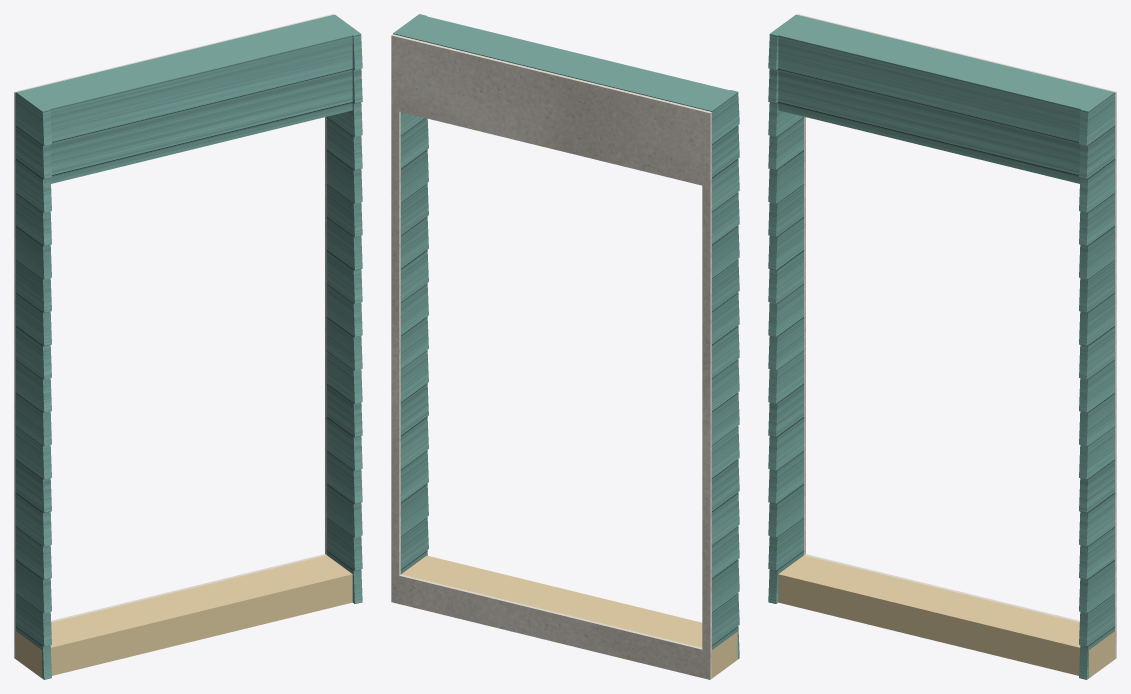
File: f_u_bay_c.glb
3 renders of one model, left to right at view 1: azimuth 30°, elevation 25°; view 2: azimuth 150°, elevation 25°; view 3: azimuth 330°, elevation 25°, orthographic.
Visible parts, largest first — view 1: f_u_bay_c_siding_c, f_u_bay_c_acc_c, f_u_bay_c_plaster; view 2: f_u_bay_c_plaster, f_u_bay_c_siding_c, f_u_bay_c_acc_c; view 3: f_u_bay_c_siding_c, f_u_bay_c_acc_c, f_u_bay_c_plaster.
Boxes of the visible parts, <box> form: f_u_bay_c_siding_c: <box>16,14,362,679</box>; f_u_bay_c_acc_c: <box>16,555,352,677</box>; f_u_bay_c_plaster: <box>14,14,333,658</box>; f_u_bay_c_plaster: <box>391,34,711,679</box>; f_u_bay_c_siding_c: <box>393,14,739,659</box>; f_u_bay_c_acc_c: <box>401,555,737,678</box>; f_u_bay_c_siding_c: <box>768,14,1114,679</box>; f_u_bay_c_acc_c: <box>778,555,1114,677</box>; f_u_bay_c_plaster: <box>797,14,1116,658</box>.
Bounding box in the file's own units: 2 × 3.4 × 0.324.
Materials: 3 (2 with a texture image).
